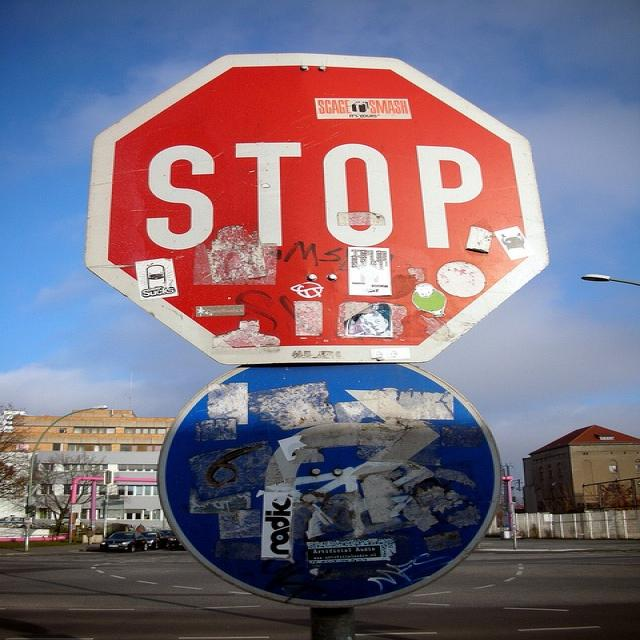car: (98, 529, 146, 551), (157, 528, 184, 549), (138, 530, 158, 547)
